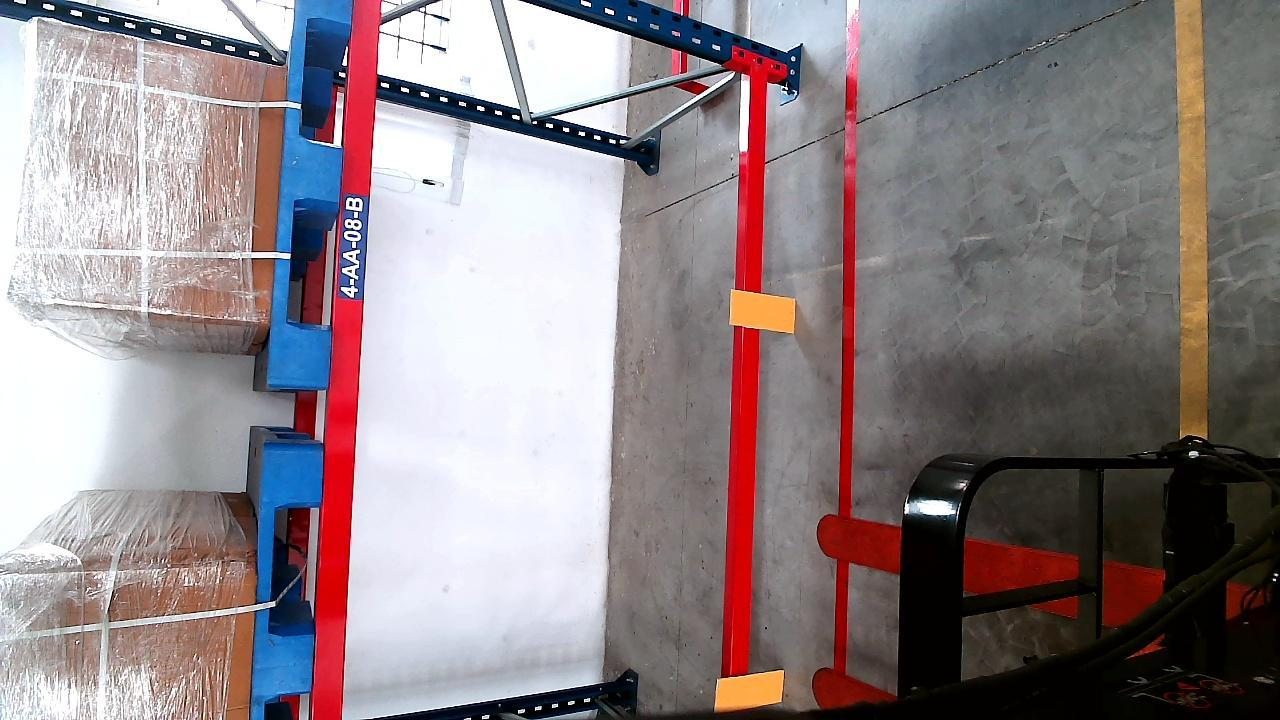red_line: (827, 16, 863, 671)
yellow_line: (1177, 0, 1210, 441)
